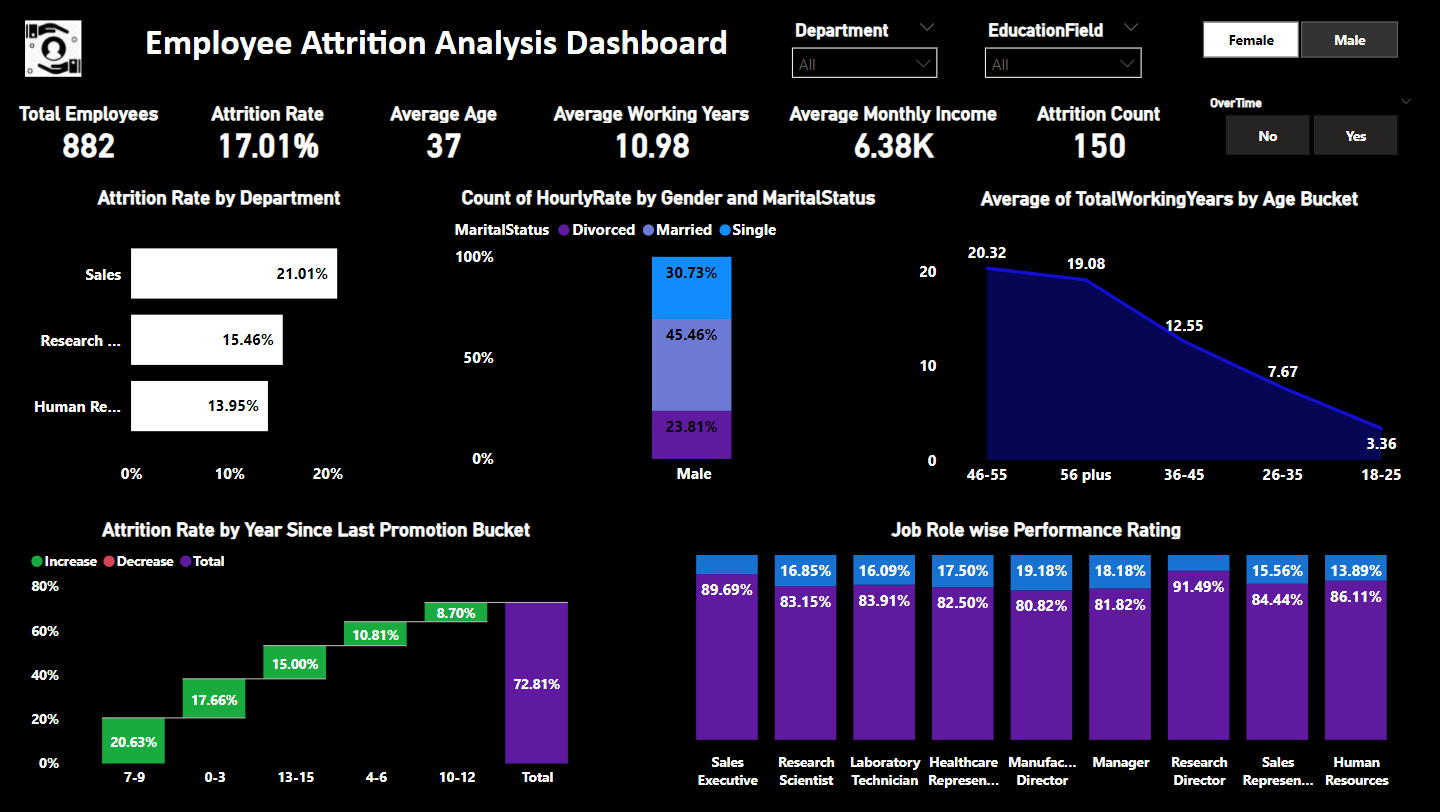

The page's visual inventory and layout, read from the dashboard file:
{"tool":"powerbi","page":{"name":"Dashboard","canvas":[1280,720],"ordinal":0},"visuals":[{"type":"clusteredBarChart","fields":{"Category":["HR-Employee-Attrition.Department"],"Y":["HR-Employee-Attrition.Attrition Rate"]},"box":[8.6,158.9,374.1,283.6],"z":0},{"type":"hundredPercentStackedColumnChart","fields":{"Y":["CountNonNull(HR-Employee-Attrition.HourlyRate)"],"Category":["HR-Employee-Attrition.Gender"],"Series":["HR-Employee-Attrition.MaritalStatus"]},"box":[394.8,158.9,399.7,283.6],"z":1000},{"type":"textbox","box":[97.7,7.2,582.5,69.9],"z":2000},{"type":"image","box":[8.4,7.2,79.6,69.9],"z":3000},{"type":"card","title":"Total Employees","fields":{"Values":["HR-Employee-Attrition.Total Employees"]},"box":[8.6,85.6,143,61.1],"z":4000},{"type":"card","title":"Attrition Rate","fields":{"Values":["HR-Employee-Attrition.Attrition Rate"]},"box":[167.5,85.6,143,61.1],"z":5000},{"type":"card","title":"Average Age","fields":{"Values":["Avg(HR-Employee-Attrition.Age)"]},"box":[323.9,85.6,143,61.1],"z":6000},{"type":"card","title":"Average Working Years","fields":{"Values":["Avg(HR-Employee-Attrition.TotalWorkingYears)"]},"box":[478,85.6,202.9,61.1],"z":7000},{"type":"waterfallChart","fields":{"Category":["HR-Employee-Attrition.Year Since Last Promotion Bucket"],"Y":["HR-Employee-Attrition.Attrition Rate"]},"box":[18.3,453.5,526.9,257.9],"z":8000},{"type":"areaChart","fields":{"Category":["HR-Employee-Attrition.Age Bucket"],"Y":["Avg(HR-Employee-Attrition.TotalWorkingYears)"]},"box":[805.6,159.2,465.5,283.4],"z":9000},{"type":"hundredPercentStackedColumnChart","title":"Job Role wise Performance Rating","fields":{"Category":["HR-Employee-Attrition.JobRole"],"Series":["HR-Employee-Attrition.PerformanceRating"],"Y":["Sum(HR-Employee-Attrition.JobSatisfaction)"]},"box":[570.9,453.5,699.2,257.9],"z":10000},{"type":"slicer","fields":{"Values":["HR-Employee-Attrition.Department"]},"box":[689.8,7.2,159.2,68.7],"z":11000},{"type":"slicer","fields":{"Values":["HR-Employee-Attrition.EducationField"]},"box":[861.1,7.2,168.8,68.7],"z":12000},{"type":"slicer","fields":{"Values":["HR-Employee-Attrition.Gender"]},"box":[1038.4,7.2,232.8,54.3],"z":13000},{"type":"card","title":"Average Monthly Income","fields":{"Values":["Avg(HR-Employee-Attrition.MonthlyIncome)"]},"box":[692.3,85.6,202.6,61.5],"z":14000},{"type":"card","title":"Attrition Count","fields":{"Values":["HR-Employee-Attrition.Attrition Count"]},"box":[903.3,85.6,144.7,61.5],"z":15000},{"type":"slicer","fields":{"Values":["HR-Employee-Attrition.OverTime"]},"box":[1058.9,76,212.3,71.2],"z":16000}]}

Visuals, with their boxes in screenshot pixels (x1, y1, x2, y2), scaled from the page's 1280x720 canvas onto the 1440x812 screenshot:
clusteredBarChart - HR-Employee-Attrition.Department x HR-Employee-Attrition.Attrition Rate: crop(10, 179, 431, 499)
hundredPercentStackedColumnChart - CountNonNull(HR-Employee-Attrition.HourlyRate) x HR-Employee-Attrition.Gender: crop(444, 179, 894, 499)
textbox: crop(110, 8, 765, 87)
image: crop(9, 8, 99, 87)
"Total Employees" card: crop(10, 97, 171, 165)
"Attrition Rate" card: crop(188, 97, 349, 165)
"Average Age" card: crop(364, 97, 525, 165)
"Average Working Years" card: crop(538, 97, 766, 165)
waterfallChart - HR-Employee-Attrition.Year Since Last Promotion Bucket x HR-Employee-Attrition.Attrition Rate: crop(21, 511, 613, 802)
areaChart - HR-Employee-Attrition.Age Bucket x Avg(HR-Employee-Attrition.TotalWorkingYears): crop(906, 180, 1430, 499)
"Job Role wise Performance Rating" hundredPercentStackedColumnChart: crop(642, 511, 1429, 802)
slicer - HR-Employee-Attrition.Department: crop(776, 8, 955, 86)
slicer - HR-Employee-Attrition.EducationField: crop(969, 8, 1159, 86)
slicer - HR-Employee-Attrition.Gender: crop(1168, 8, 1430, 69)
"Average Monthly Income" card: crop(779, 97, 1007, 166)
"Attrition Count" card: crop(1016, 97, 1179, 166)
slicer - HR-Employee-Attrition.OverTime: crop(1191, 86, 1430, 166)
